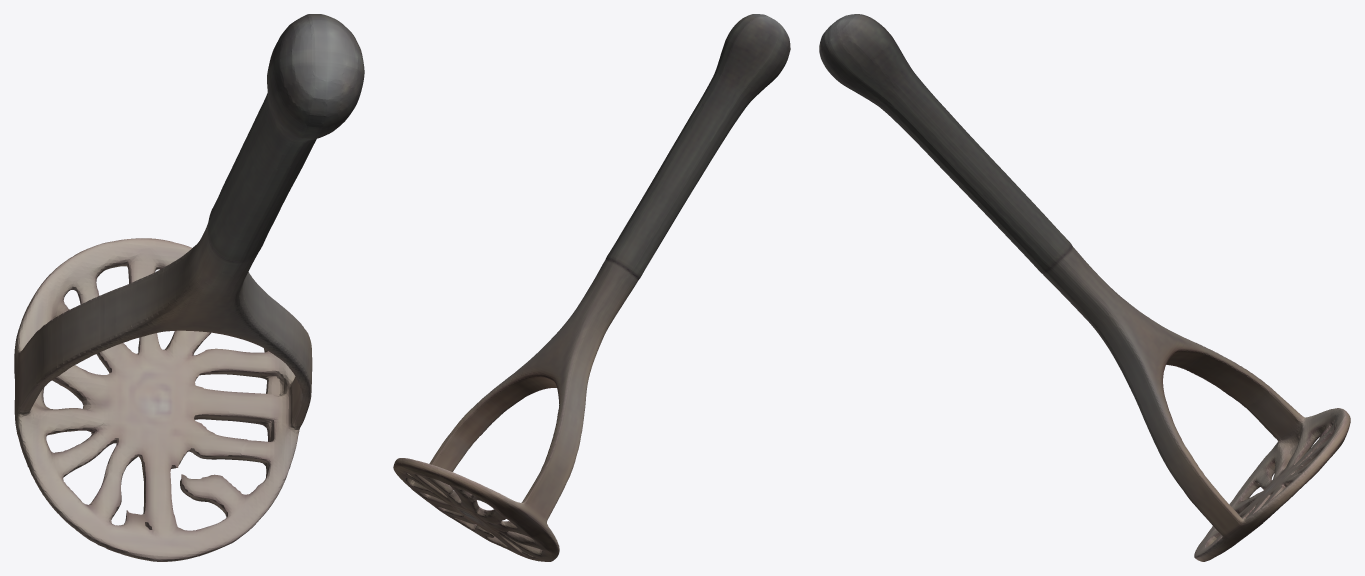
Rendered from frame_0041_source_000041_object.glb.
The picture shows the model from 3 angles, left to right: view 1: azimuth 30°, elevation 25°; view 2: azimuth 150°, elevation 25°; view 3: azimuth 270°, elevation 25°; orthographic projection. The views are drawn at different scales.
Parts seen in each view (by area): view 1: world; view 2: world; view 3: world.
Part boxes in pixels (x1,y1,x2,y2): world: (14,14,364,561); world: (393,14,790,561); world: (819,14,1350,561).
Bounding box in the file's own units: 0.096 × 0.2108 × 0.2064.
